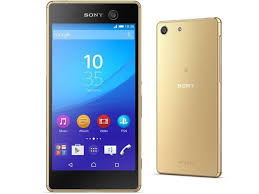sony: (42, 1, 143, 194), (156, 14, 224, 176)
